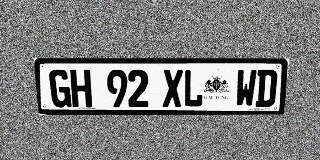2: (128, 69, 148, 107)
9: (107, 69, 128, 107)
D: (255, 70, 278, 107)
G: (49, 69, 72, 107)
H: (70, 69, 92, 107)
L: (183, 69, 204, 107)
W: (235, 70, 257, 107)
X: (163, 69, 183, 107)
